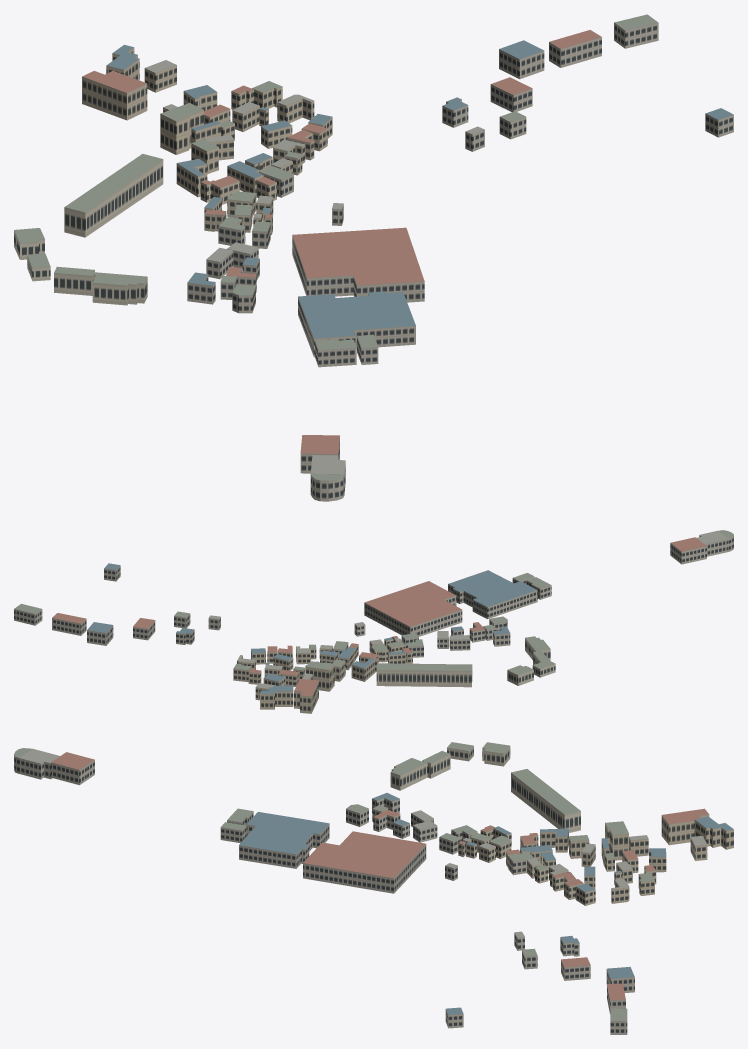
3 views of the same model, one above another, from view 1: azimuth 30°, elevation 25°; view 2: azimuth 150°, elevation 25°; view 3: azimuth 270°, elevation 25° (orthographic). The views are drawn at different scales.
Parts seen in each view (by area): view 1: ctx-other, ctx-house, ctx-roof-1, ctx-roof-2, ctx-roof-0, ctx-school, ctx-roof-3; view 2: ctx-other, ctx-house, ctx-roof-1, ctx-roof-2, ctx-roof-0, ctx-school, ctx-roof-3; view 3: ctx-other, ctx-house, ctx-roof-1, ctx-roof-2, ctx-roof-0, ctx-school, ctx-roof-3.
Part boxes in pixels (<box>): ctx-other: <box>187,22,733,501</box>; ctx-house: <box>82,47,332,234</box>; ctx-roof-1: <box>82,30,601,453</box>; ctx-roof-2: <box>106,40,733,338</box>; ctx-roof-0: <box>14,14,657,480</box>; ctx-school: <box>14,159,163,305</box>; ctx-roof-3: <box>145,60,484,474</box>; ctx-other: <box>14,535,733,657</box>; ctx-house: <box>233,637,412,713</box>; ctx-roof-1: <box>52,537,706,696</box>; ctx-roof-2: <box>87,563,536,693</box>; ctx-roof-0: <box>14,530,733,675</box>; ctx-school: <box>376,638,555,687</box>; ctx-roof-3: <box>209,530,727,688</box>; ctx-other: <box>14,755,634,1034</box>; ctx-house: <box>458,814,733,905</box>; ctx-roof-1: <box>51,752,708,1000</box>; ctx-roof-2: <box>239,793,733,1014</box>; ctx-roof-0: <box>14,742,654,1020</box>; ctx-school: <box>390,746,580,832</box>; ctx-roof-3: <box>20,749,707,937</box>.
Size of the model in its own units: 379 by 27.44 by 424.
Materials: 7 (3 with a texture image).
